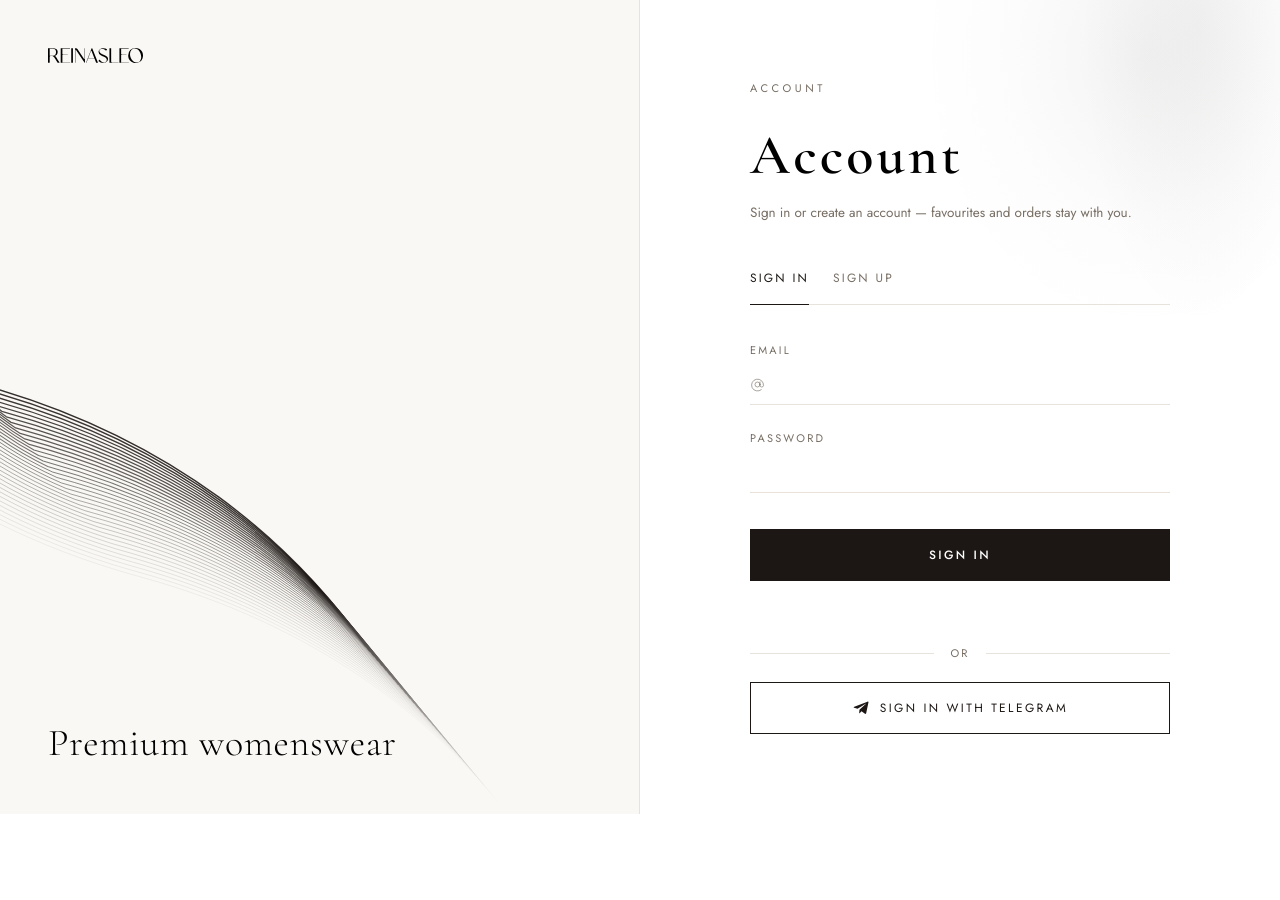
Test: WhiteAccountShowcase › switches to the sign-up tab with the code step gated
Click the tab "Sign up". click: (864, 282)
box: [833,260,894,304]
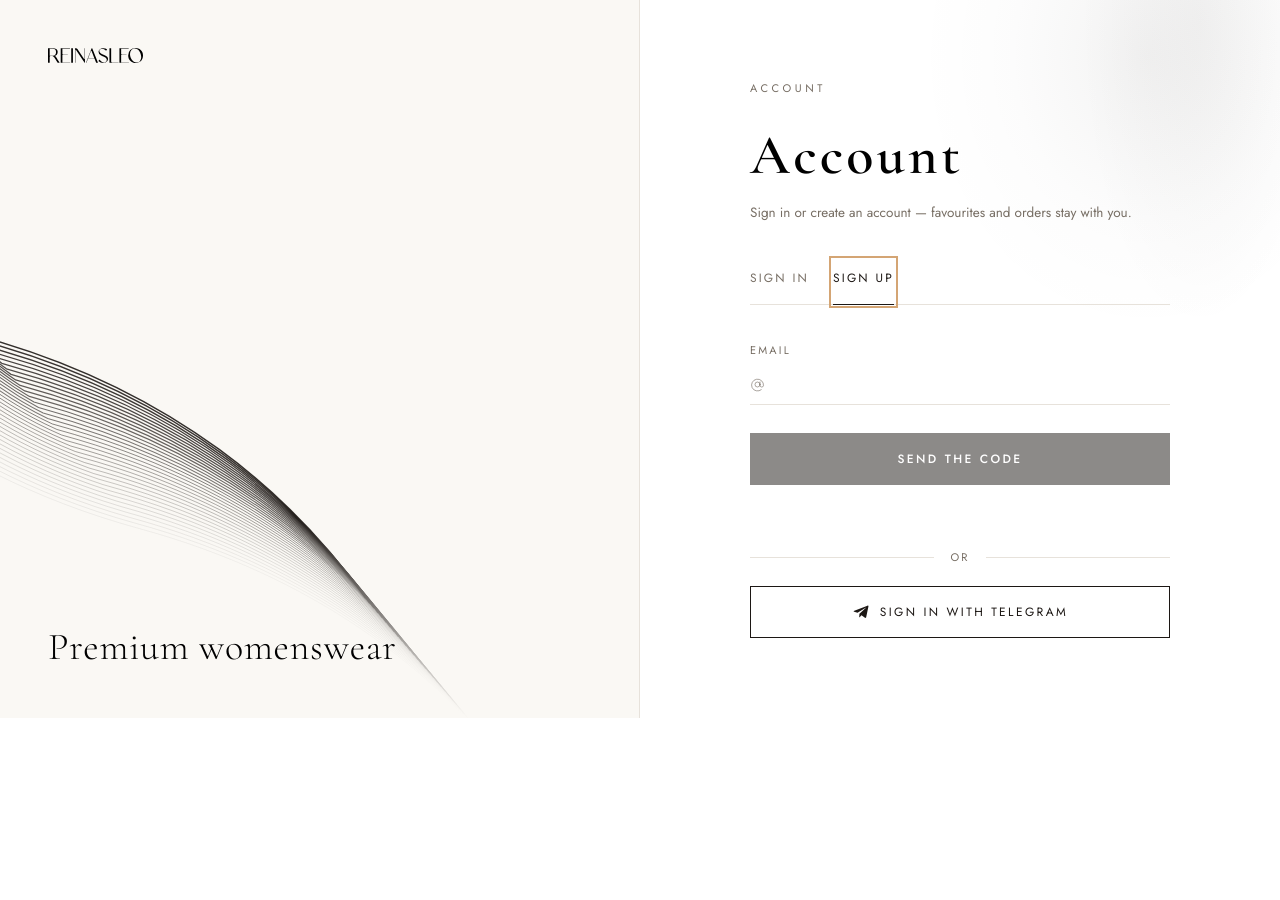
expect the button "Send the code" is shown: met, box [750,433,1170,485]
